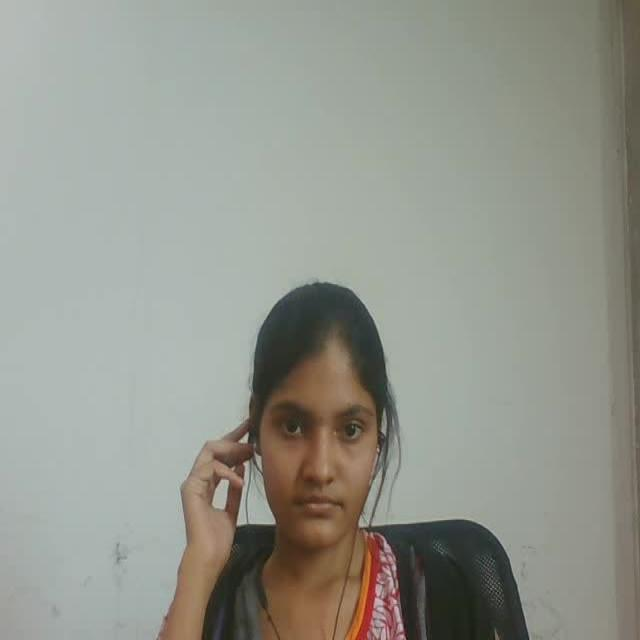Engaged: (216, 260, 415, 570)
